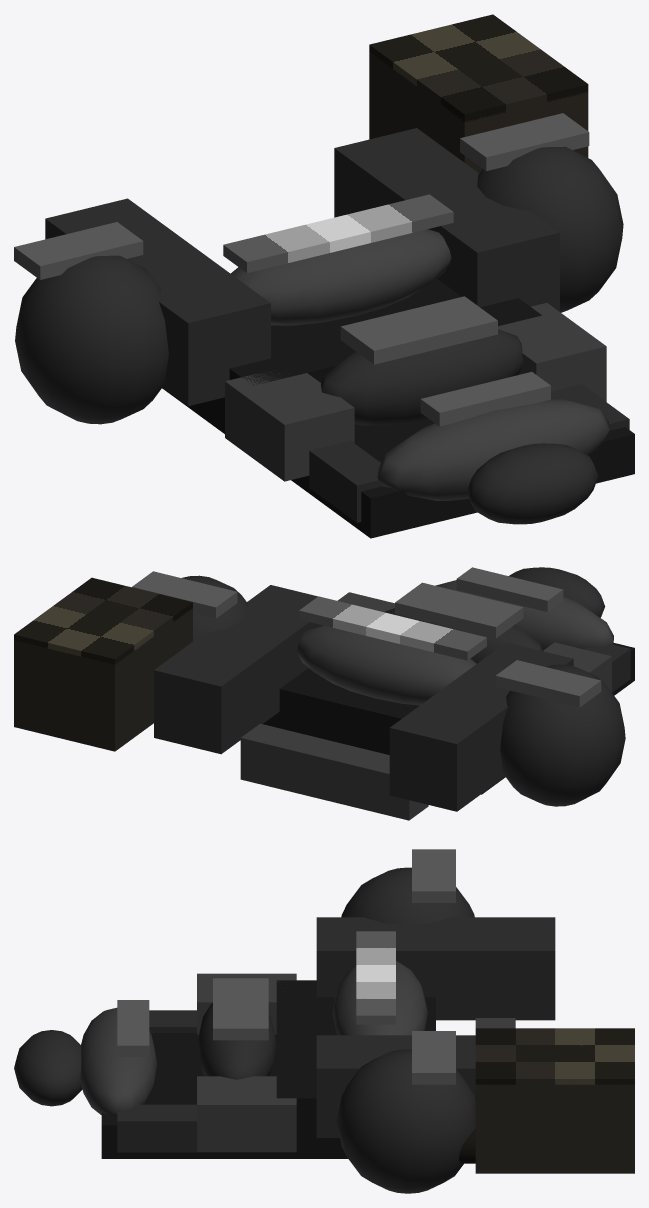
The model's file is CMU3DM4RArmorCloud.glb.
3 renders of one model, top to bottom at view 1: azimuth 30°, elevation 25°; view 2: azimuth 150°, elevation 25°; view 3: azimuth 270°, elevation 25°, orthographic. The views are drawn at different scales.
Parts seen in each view (by area): view 1: left separate convex shoulder plate, right raised shoulder webbing, left raised shoulder webbing, lamp-off source face, right separate convex shoulder plate, separate chest protective plate, lower independent protective flap, articulated abdominal plate, left front fastening, lower tapered plate tip, upper chest backing, central flexible vest backing (+9 smaller); view 2: right raised shoulder webbing, left raised shoulder webbing, default South shoulder-lamp body, left separate convex shoulder plate, back neck bridge leaving open neck space, lamp-off source face, separate chest protective plate, upper chest backing, chest identity strip, abdominal center ridge, lower independent protective flap, left pauldrons top highlight (+8 smaller); view 3: left raised shoulder webbing, default South shoulder-lamp body, right separate convex shoulder plate, lamp-off source face, upper chest backing, right front fastening, central flexible vest backing, right raised shoulder webbing, lower independent protective flap, lower tapered plate tip, left separate convex shoulder plate, right lower strap (+9 smaller).
Part boxes in pixels (x1=…): left separate convex shoulder plate: x1=15, y1=255, x2=168, y2=424; right raised shoulder webbing: x1=334, y1=128, x2=559, y2=311; left raised shoulder webbing: x1=45, y1=198, x2=270, y2=406; lamp-off source face: x1=369, y1=14, x2=588, y2=122; right separate convex shoulder plate: x1=477, y1=146, x2=623, y2=312; separate chest protective plate: x1=230, y1=229, x2=451, y2=325; lower independent protective flap: x1=377, y1=399, x2=609, y2=500; articulated abdominal plate: x1=320, y1=329, x2=523, y2=425; left front fastening: x1=225, y1=372, x2=354, y2=481; lower tapered plate tip: x1=467, y1=443, x2=598, y2=524; upper chest backing: x1=162, y1=279, x2=541, y2=433; central flexible vest backing: x1=291, y1=419, x2=634, y2=538; right raised shoulder webbing: x1=154, y1=585, x2=322, y2=754; left raised shoulder webbing: x1=389, y1=642, x2=573, y2=811; default South shoulder-lamp body: x1=14, y1=608, x2=192, y2=751; left separate convex shoulder plate: x1=500, y1=664, x2=625, y2=806; back neck bridge leaving open neck space: x1=240, y1=723, x2=428, y2=820; lamp-off source face: x1=14, y1=577, x2=192, y2=664; separate chest protective plate: x1=297, y1=625, x2=476, y2=705; upper chest backing: x1=263, y1=660, x2=505, y2=794; chest identity strip: x1=299, y1=596, x2=486, y2=660; abdominal center ridge: x1=395, y1=582, x2=523, y2=638; lower independent protective flap: x1=435, y1=580, x2=613, y2=649; left pauldrons top highlight: x1=495, y1=660, x2=601, y2=707; left raised shoulder webbing: x1=316, y1=917, x2=555, y2=1020; default South shoulder-lamp body: x1=475, y1=1084, x2=634, y2=1173; right separate convex shoulder plate: x1=336, y1=1049, x2=475, y2=1193; lamp-off source face: x1=475, y1=1028, x2=634, y2=1085; upper chest backing: x1=276, y1=980, x2=435, y2=1155; right front fastening: x1=197, y1=1076, x2=296, y2=1152; central flexible vest backing: x1=101, y1=1033, x2=347, y2=1158; right raised shoulder webbing: x1=316, y1=1035, x2=475, y2=1137; lower independent protective flap: x1=80, y1=1007, x2=157, y2=1116; lower tapered plate tip: x1=14, y1=1030, x2=82, y2=1106; left separate convex shoulder plate: x1=341, y1=867, x2=474, y2=925; right lower strap: x1=117, y1=1104, x2=196, y2=1152.
Size of the model in its own units: 0.4562 by 0.132 by 0.4875.
Materials: 8 (2 with a texture image).
